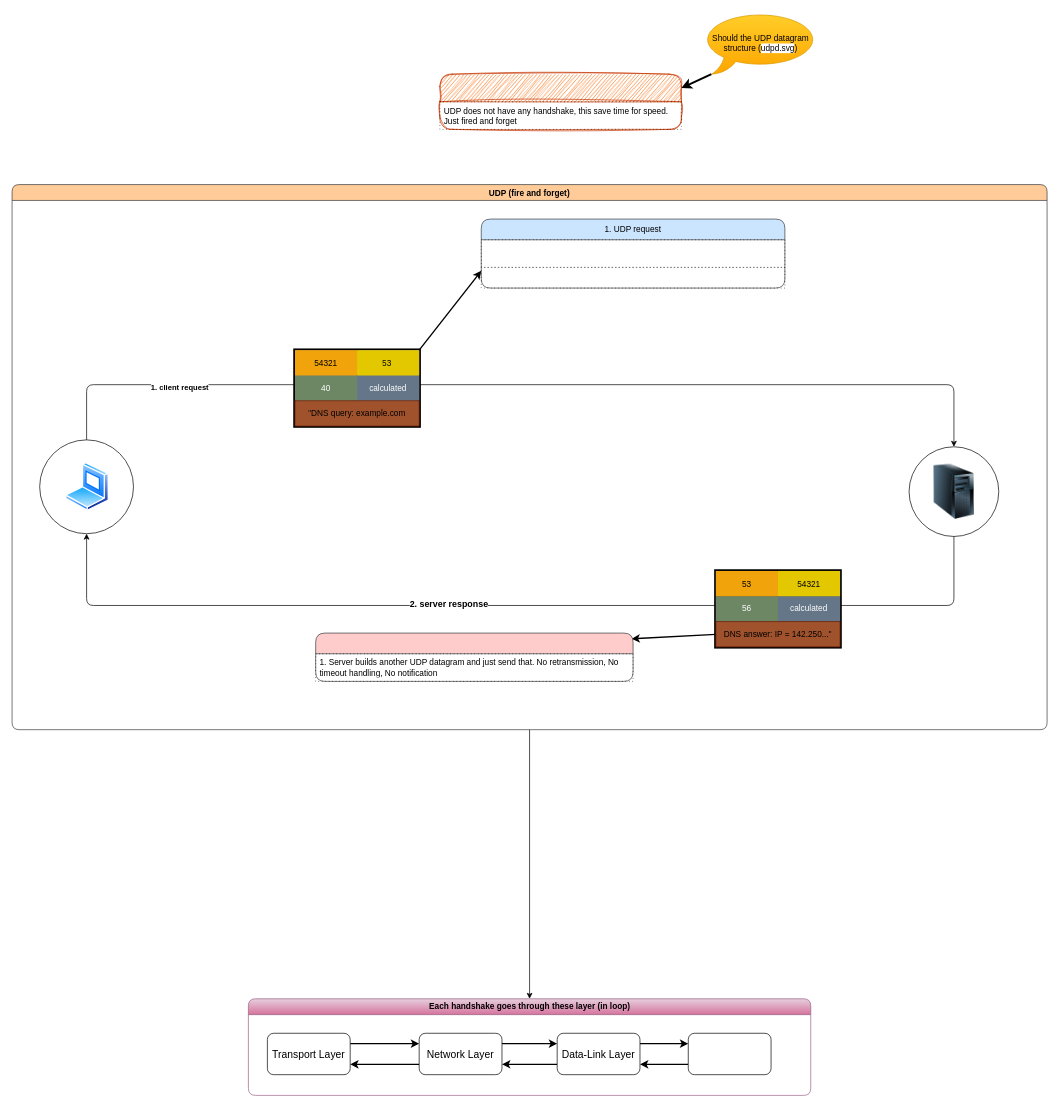
Image size: 1059x1107. Some labels were removed from this diagram. Here are the shapes that lost their labels. From the top down, the box of each, then its label:
(439, 73, 681, 129): UDP datagram
(481, 239, 785, 267): 1. Eg: - Client request DNS for domain IP address
(481, 267, 785, 288): 2. Sends it immediately, No handshake
(315, 632, 633, 681): 2. UDP response
(688, 1033, 771, 1075): physical Layer
